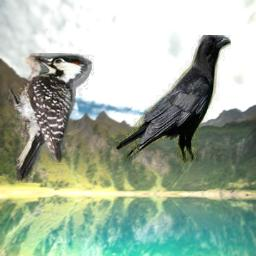Crow: (115, 35, 231, 165)
Woodpecker: (2, 53, 94, 183)
